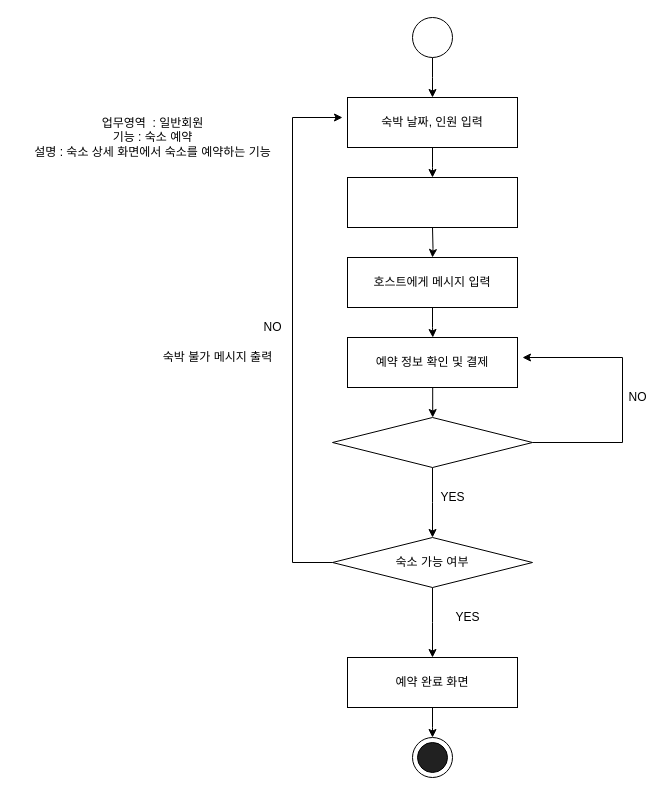
Image size: 669x795. Some labels were removed from this diagram. Each missing label, with the centre of its shape:
"결제 정보 유효" belongs at (x=432, y=442).
"숙소 예약 규칙 동의" belongs at (x=432, y=202).
